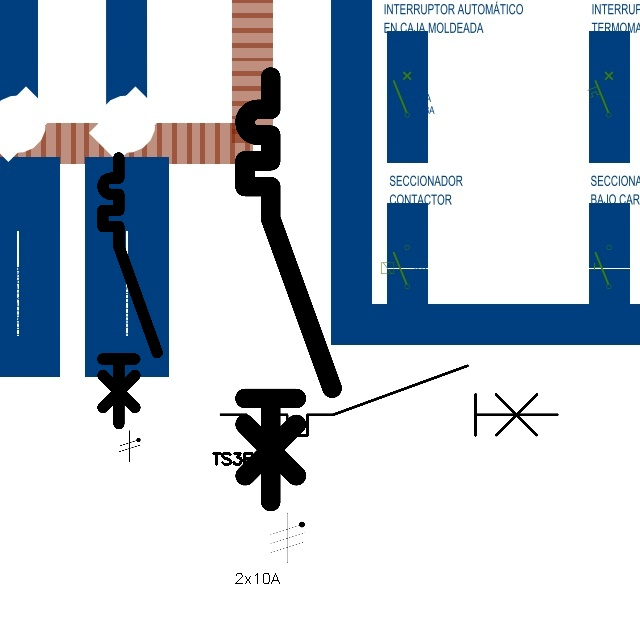interruptor_termomagnetico: (234, 66, 343, 512), (212, 357, 566, 444), (96, 151, 164, 430)
